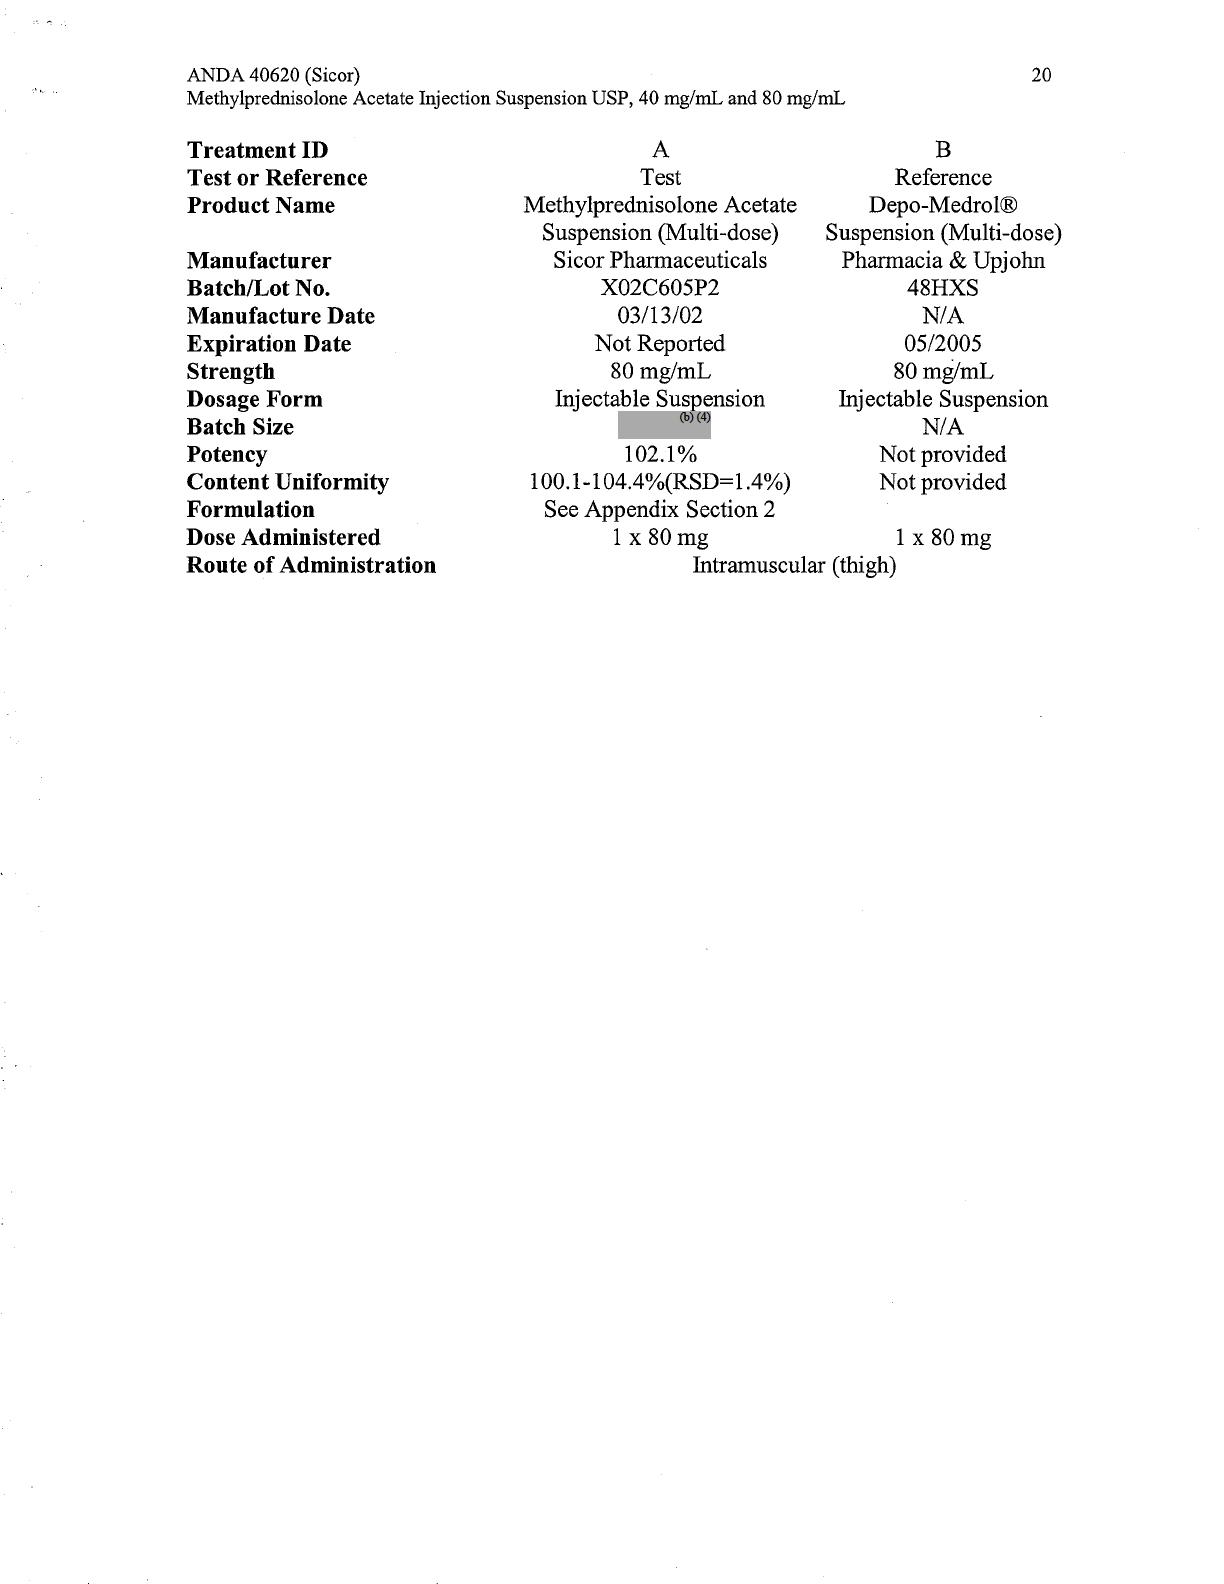nolines: (185, 138, 1065, 580)
